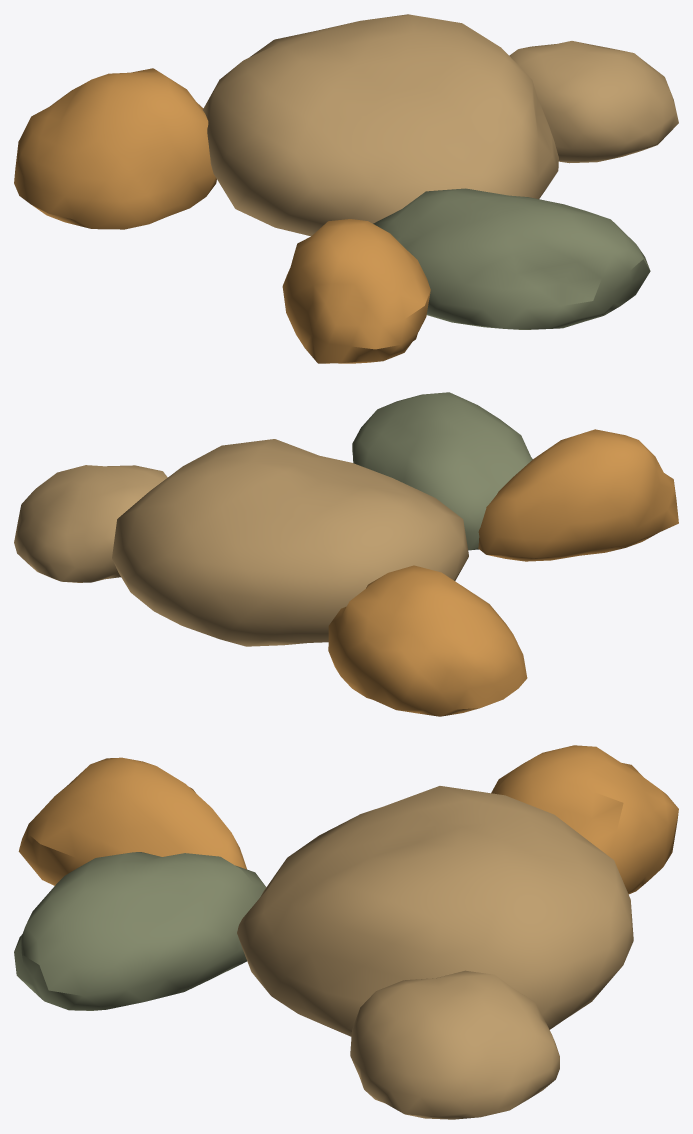
Rendered from deco_rock_cluster_ochre.fbx.
3 views of the same model, one above another, from view 1: azimuth 30°, elevation 25°; view 2: azimuth 150°, elevation 25°; view 3: azimuth 270°, elevation 25° (orthographic). The views are drawn at different scales.
Visible parts, largest first — view 1: RockCluster_Ochre_Rock1, RockCluster_Ochre_Rock3, RockCluster_Ochre_Rock2, RockCluster_Ochre_Rock5, RockCluster_Ochre_Rock4; view 2: RockCluster_Ochre_Rock1, RockCluster_Ochre_Rock2, RockCluster_Ochre_Rock5, RockCluster_Ochre_Rock3, RockCluster_Ochre_Rock4; view 3: RockCluster_Ochre_Rock1, RockCluster_Ochre_Rock3, RockCluster_Ochre_Rock4, RockCluster_Ochre_Rock5, RockCluster_Ochre_Rock2.
Boxes of the visible parts, x1=… form: RockCluster_Ochre_Rock1: x1=203, y1=14, x2=558, y2=236; RockCluster_Ochre_Rock3: x1=373, y1=188, x2=650, y2=329; RockCluster_Ochre_Rock2: x1=14, y1=68, x2=216, y2=229; RockCluster_Ochre_Rock5: x1=282, y1=219, x2=430, y2=363; RockCluster_Ochre_Rock4: x1=509, y1=41, x2=678, y2=163; RockCluster_Ochre_Rock1: x1=112, y1=439, x2=468, y2=646; RockCluster_Ochre_Rock2: x1=328, y1=565, x2=527, y2=716; RockCluster_Ochre_Rock5: x1=478, y1=429, x2=678, y2=561; RockCluster_Ochre_Rock3: x1=352, y1=392, x2=532, y2=550; RockCluster_Ochre_Rock4: x1=14, y1=465, x2=167, y2=582; RockCluster_Ochre_Rock1: x1=237, y1=786, x2=633, y2=1036; RockCluster_Ochre_Rock3: x1=14, y1=852, x2=266, y2=1010; RockCluster_Ochre_Rock4: x1=350, y1=970, x2=559, y2=1119; RockCluster_Ochre_Rock5: x1=18, y1=757, x2=246, y2=885; RockCluster_Ochre_Rock2: x1=491, y1=745, x2=678, y2=894.
Size of the model in its own units: 163 by 36.71 by 150.
